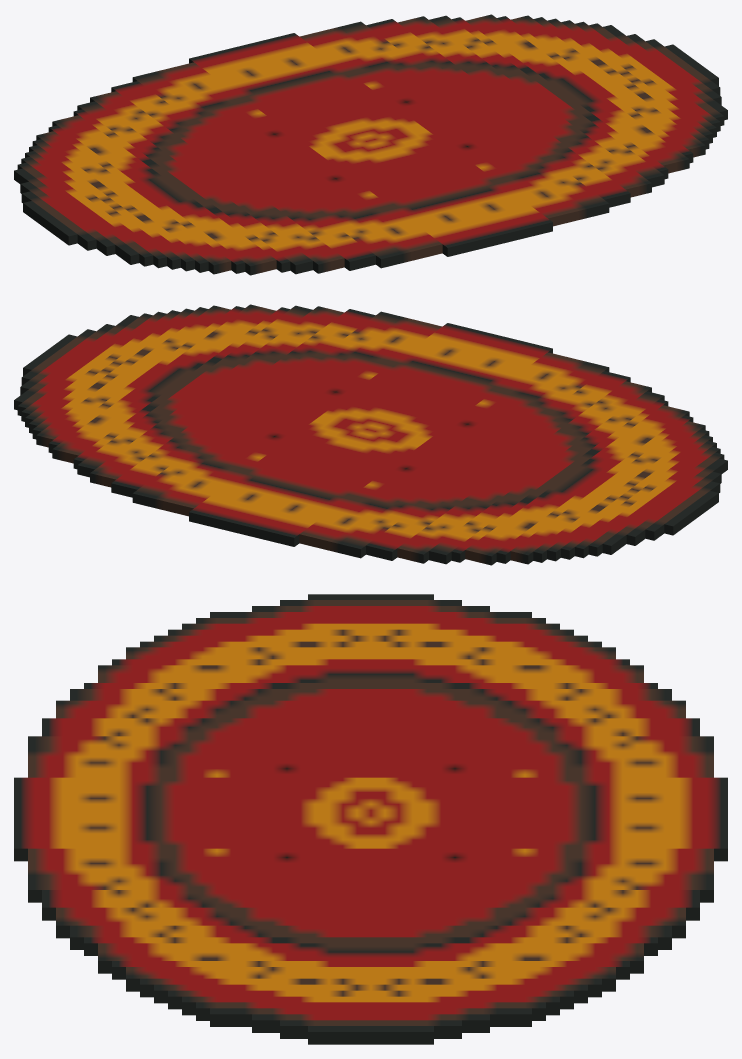
Rendered from Rug_Oblong_00.fbx.
The picture shows the model from 3 angles, top to bottom: view 1: azimuth 30°, elevation 25°; view 2: azimuth 150°, elevation 25°; view 3: azimuth 270°, elevation 25°; orthographic projection. The views are drawn at different scales.
Parts seen in each view (by area): view 1: Rug_Oblong_00; view 2: Rug_Oblong_00; view 3: Rug_Oblong_00.
Part boxes in pixels (x1=…): Rug_Oblong_00: x1=14, y1=14, x2=727, y2=275; Rug_Oblong_00: x1=14, y1=304, x2=727, y2=565; Rug_Oblong_00: x1=14, y1=594, x2=727, y2=1044.
Size of the model in its own units: 370 by 5 by 255.
